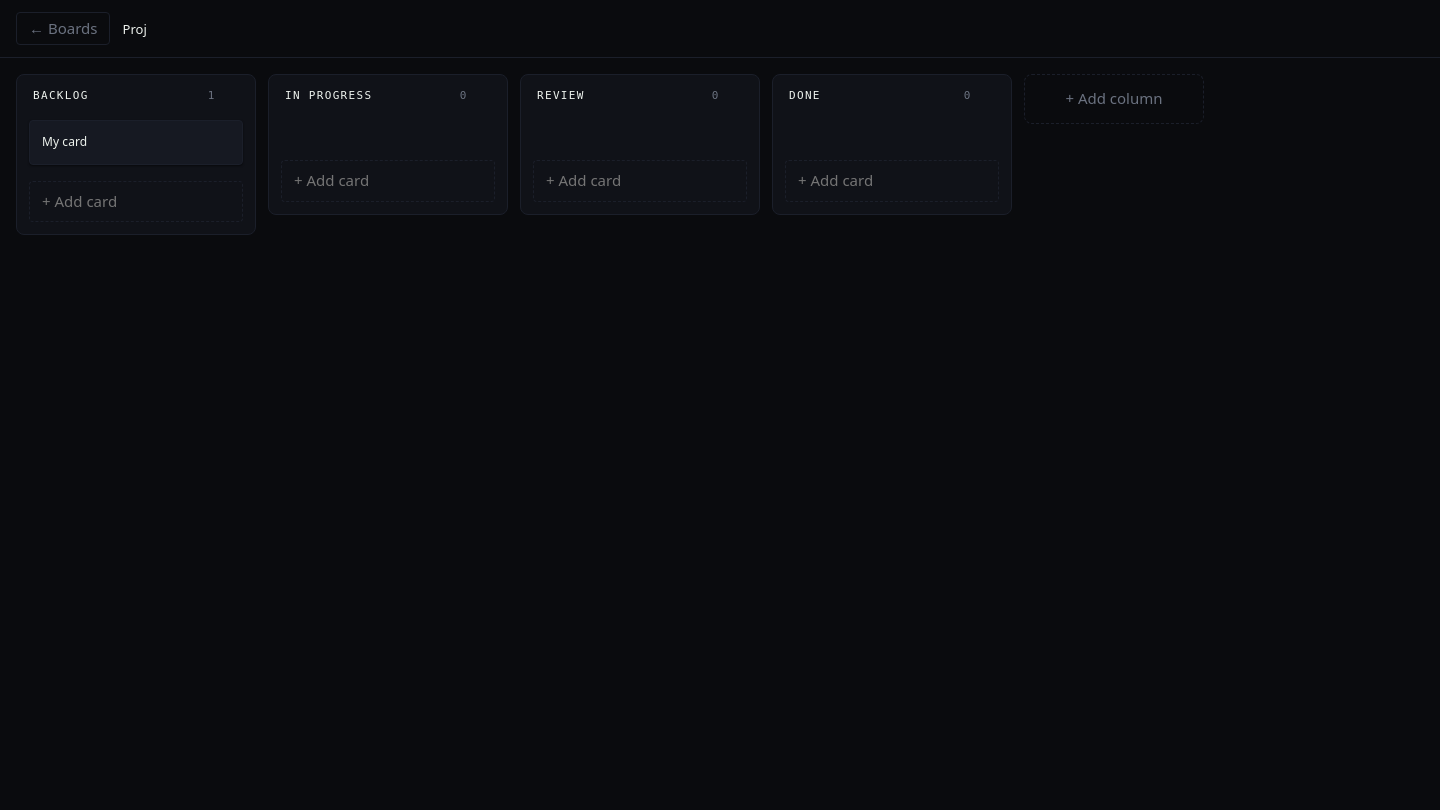
Kanban board flows › adds a description to a card through the editor
The width and height of the screenshot is (1440, 810).
Click the text "My card". click: (65, 142)
box: [42,133,87,150]
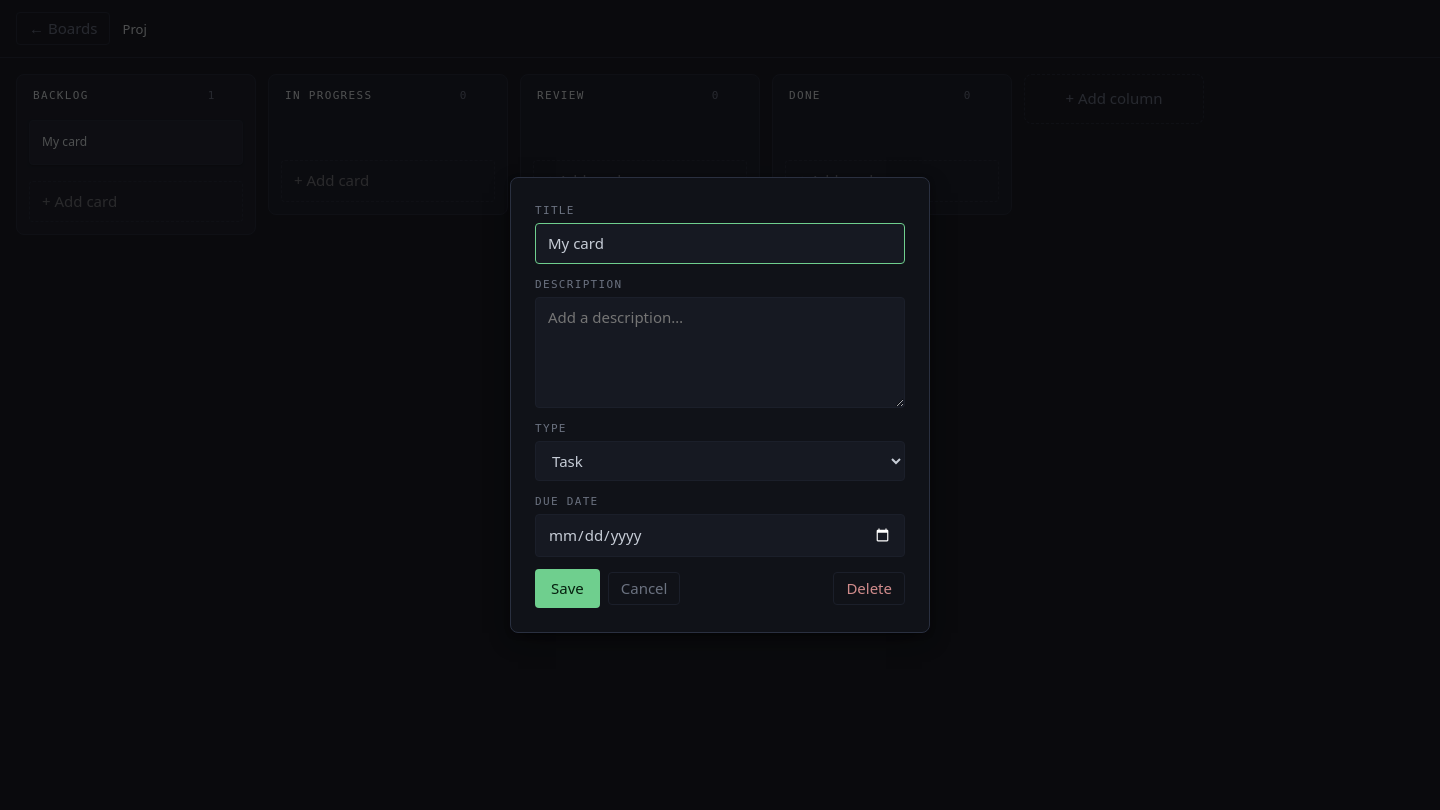
Type "Some details" into the text box with placeholder "Add a description…". click: (720, 352)
box: [535,297,905,408]
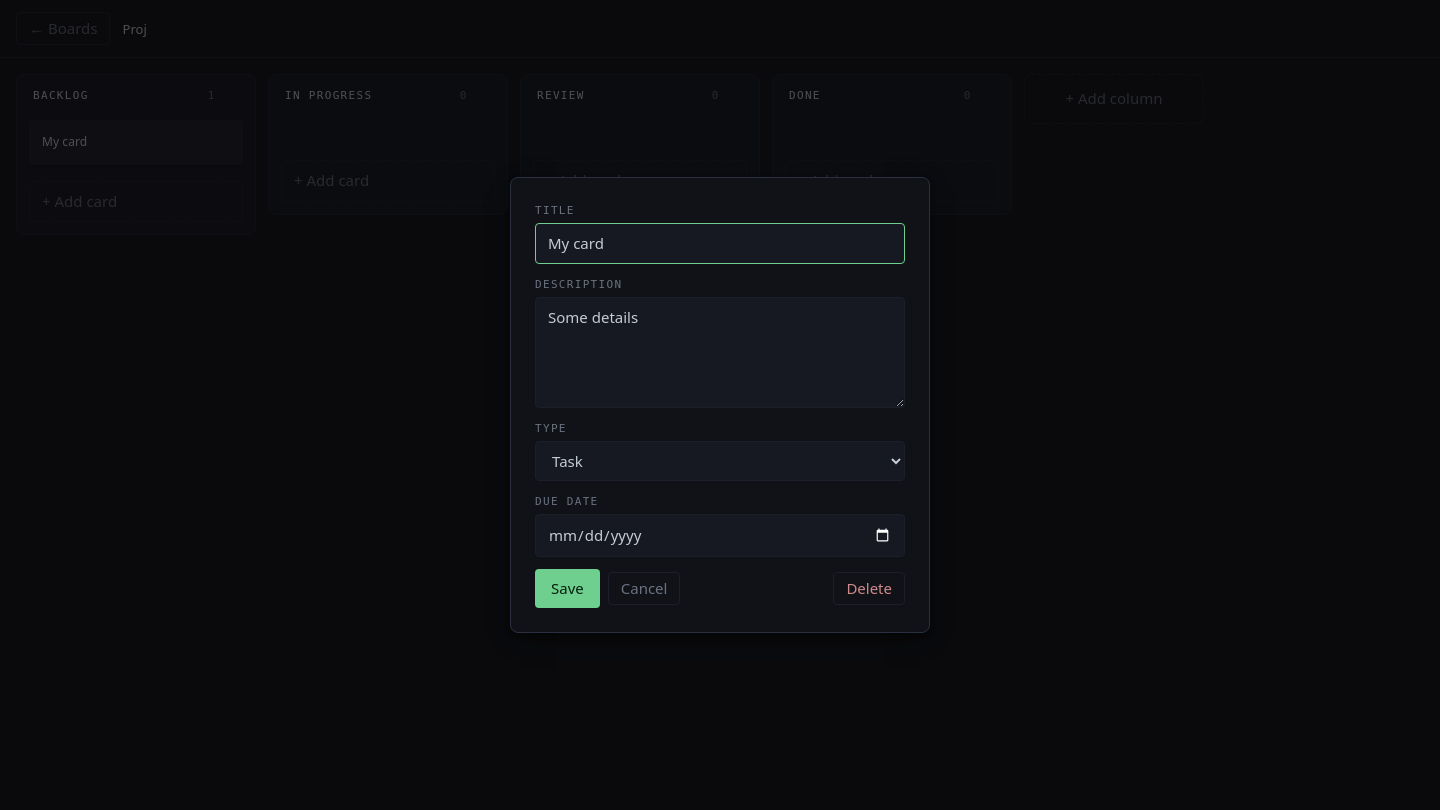
Click the button "Save". click: (567, 589)
box: [535,569,600,608]
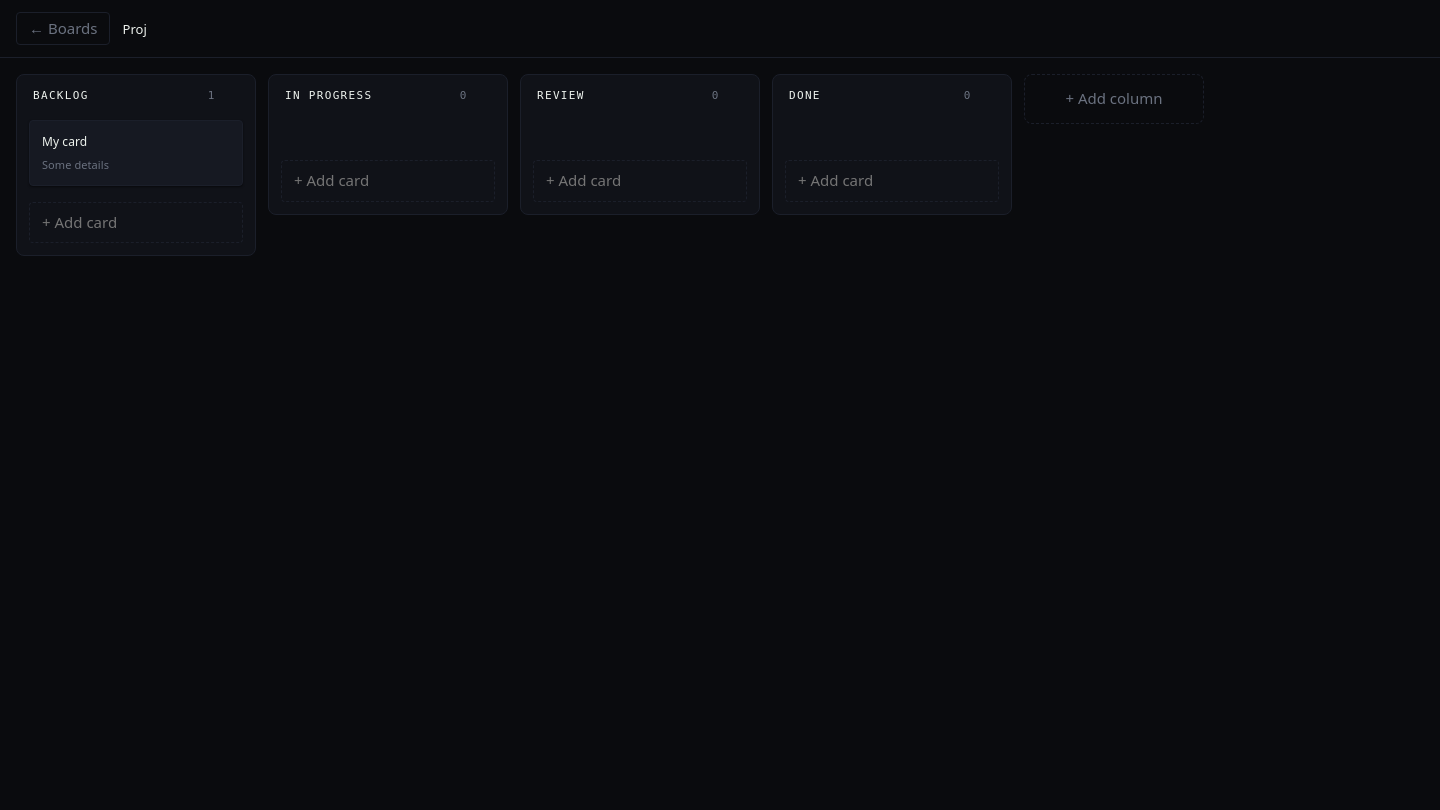
Expected: the text "Some details" is shown, [42,157,109,172]
